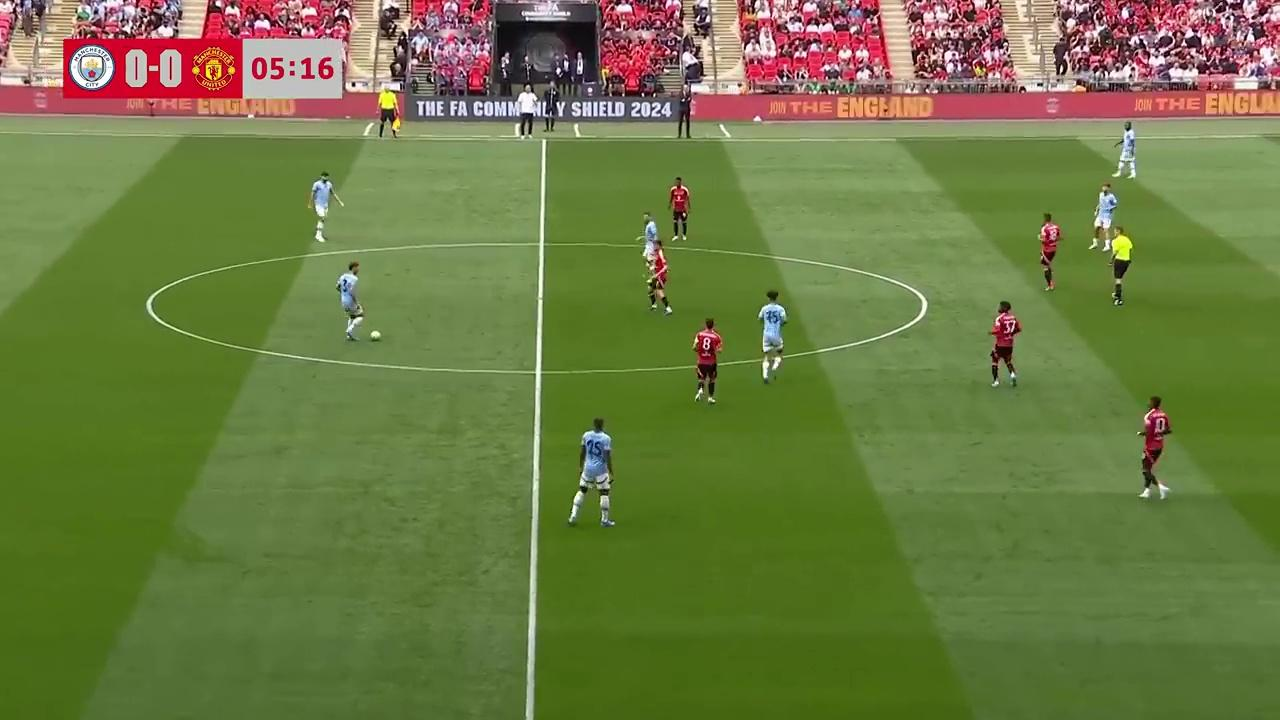ball: (368, 327, 382, 342)
player: (565, 417, 616, 528), (1137, 396, 1171, 501), (988, 301, 1021, 389), (691, 317, 723, 405), (757, 290, 786, 381), (307, 171, 343, 242), (335, 261, 363, 342), (1038, 212, 1063, 290), (1089, 183, 1117, 252), (645, 246, 672, 315), (637, 211, 663, 270), (668, 176, 690, 241), (1112, 123, 1137, 178)
referee: (1108, 227, 1132, 306), (381, 87, 402, 141)
